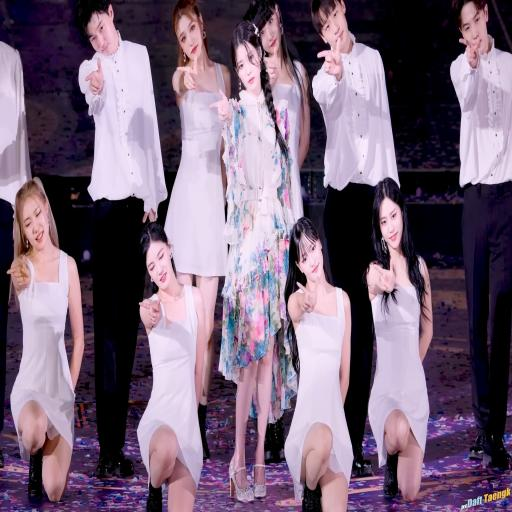IU: (232, 24, 262, 92)
